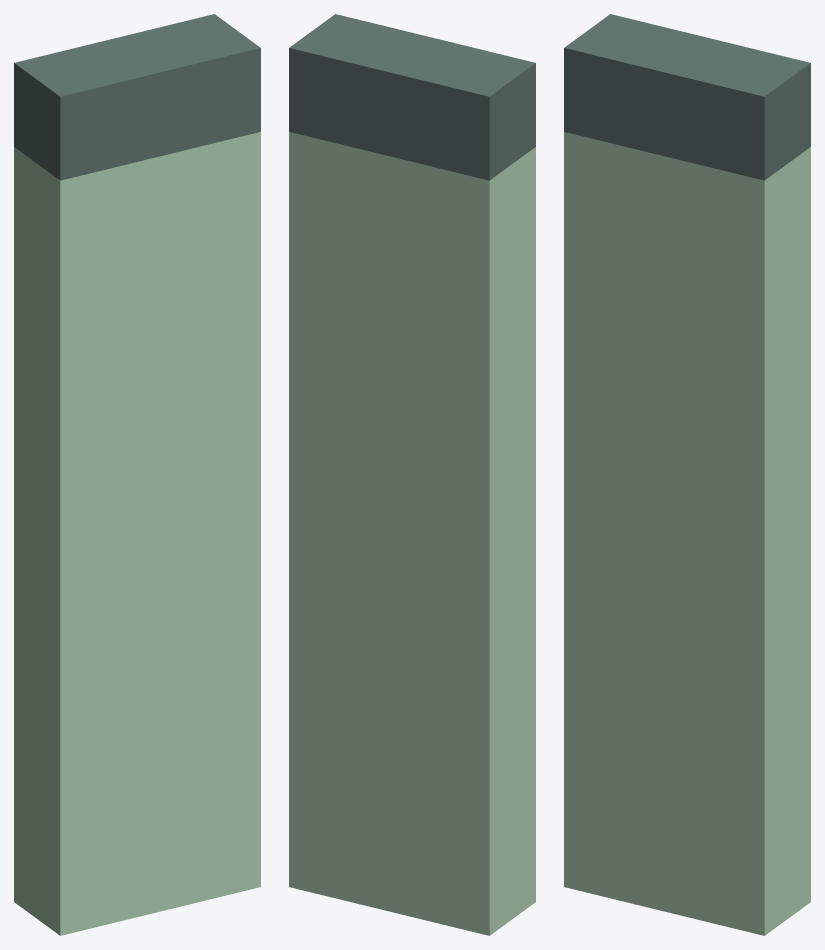
Rendered from Wall4m1mWidth.fbx.
3 renders of one model, left to right at view 1: azimuth 30°, elevation 25°; view 2: azimuth 150°, elevation 25°; view 3: azimuth 330°, elevation 25°, orthographic.
Visible parts, largest first — view 1: Wall4m1mWidth; view 2: Wall4m1mWidth; view 3: Wall4m1mWidth.
Part boxes in pixels (bbox=[...]): Wall4m1mWidth: bbox=[14, 14, 260, 935]; Wall4m1mWidth: bbox=[289, 14, 535, 935]; Wall4m1mWidth: bbox=[564, 14, 810, 935].
Bounding box in the file's own units: 1 × 4 × 0.4.
